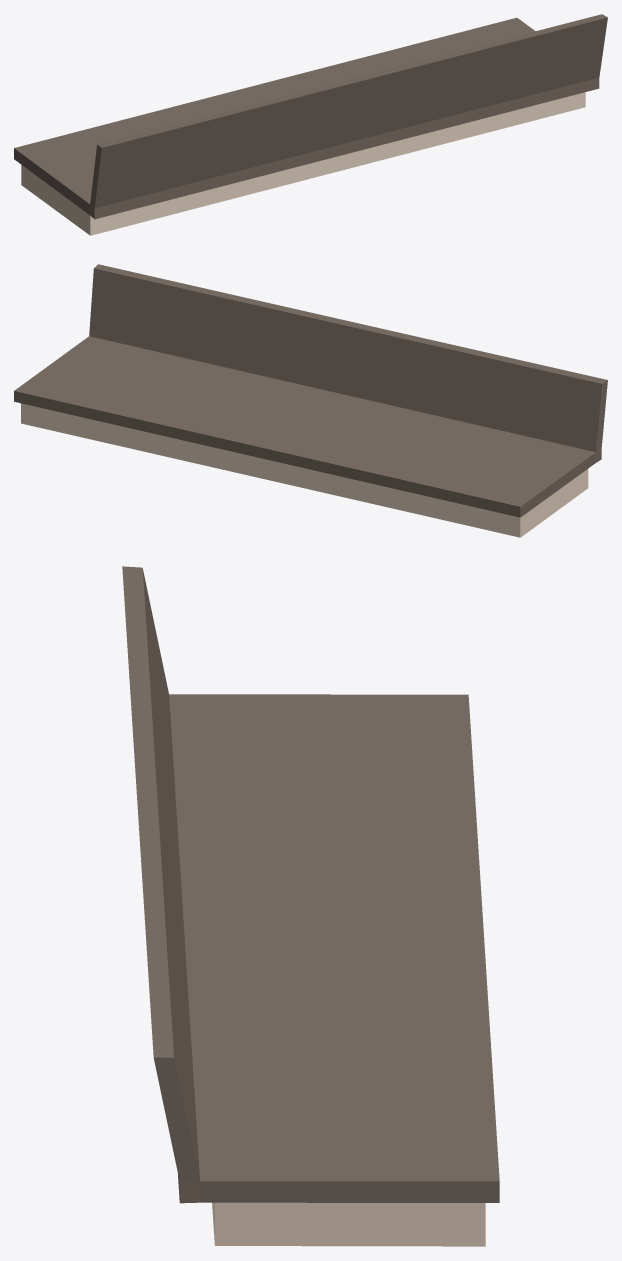
The model's file is bench.FBX.
3 views of the same model, one above another, from view 1: azimuth 30°, elevation 25°; view 2: azimuth 150°, elevation 25°; view 3: azimuth 270°, elevation 25° (orthographic). The views are drawn at different scales.
Visible parts, largest first — view 1: bench001; view 2: bench001; view 3: bench001.
Part boxes in pixels (x1,y1,x2,y2): bench001: (14, 14, 607, 235); bench001: (14, 264, 607, 537); bench001: (122, 566, 499, 1246).
Size of the model in its own units: 31.56 by 5.89 by 10.27.
